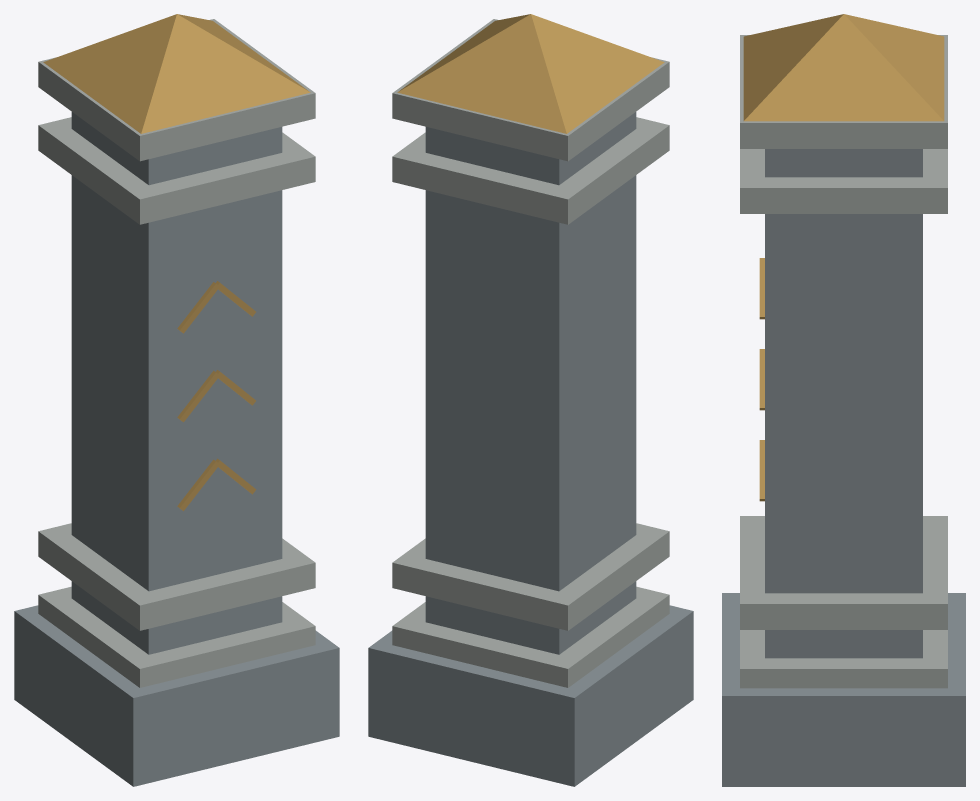
The model's file is dwarf_pillar.glb.
3 views of the same model, side by side, from view 1: azimuth 30°, elevation 25°; view 2: azimuth 150°, elevation 25°; view 3: azimuth 270°, elevation 25° (orthographic). The views are drawn at different scales.
Visible parts, largest first — view 1: dwarf_pillar; view 2: dwarf_pillar; view 3: dwarf_pillar.
Boxes of the visible parts, x1,y1,x2,y2 form: dwarf_pillar: (14,14,339,786); dwarf_pillar: (368,14,693,786); dwarf_pillar: (722,14,965,786).
Size of the model in its own units: 1.7 by 5.55 by 1.7.
